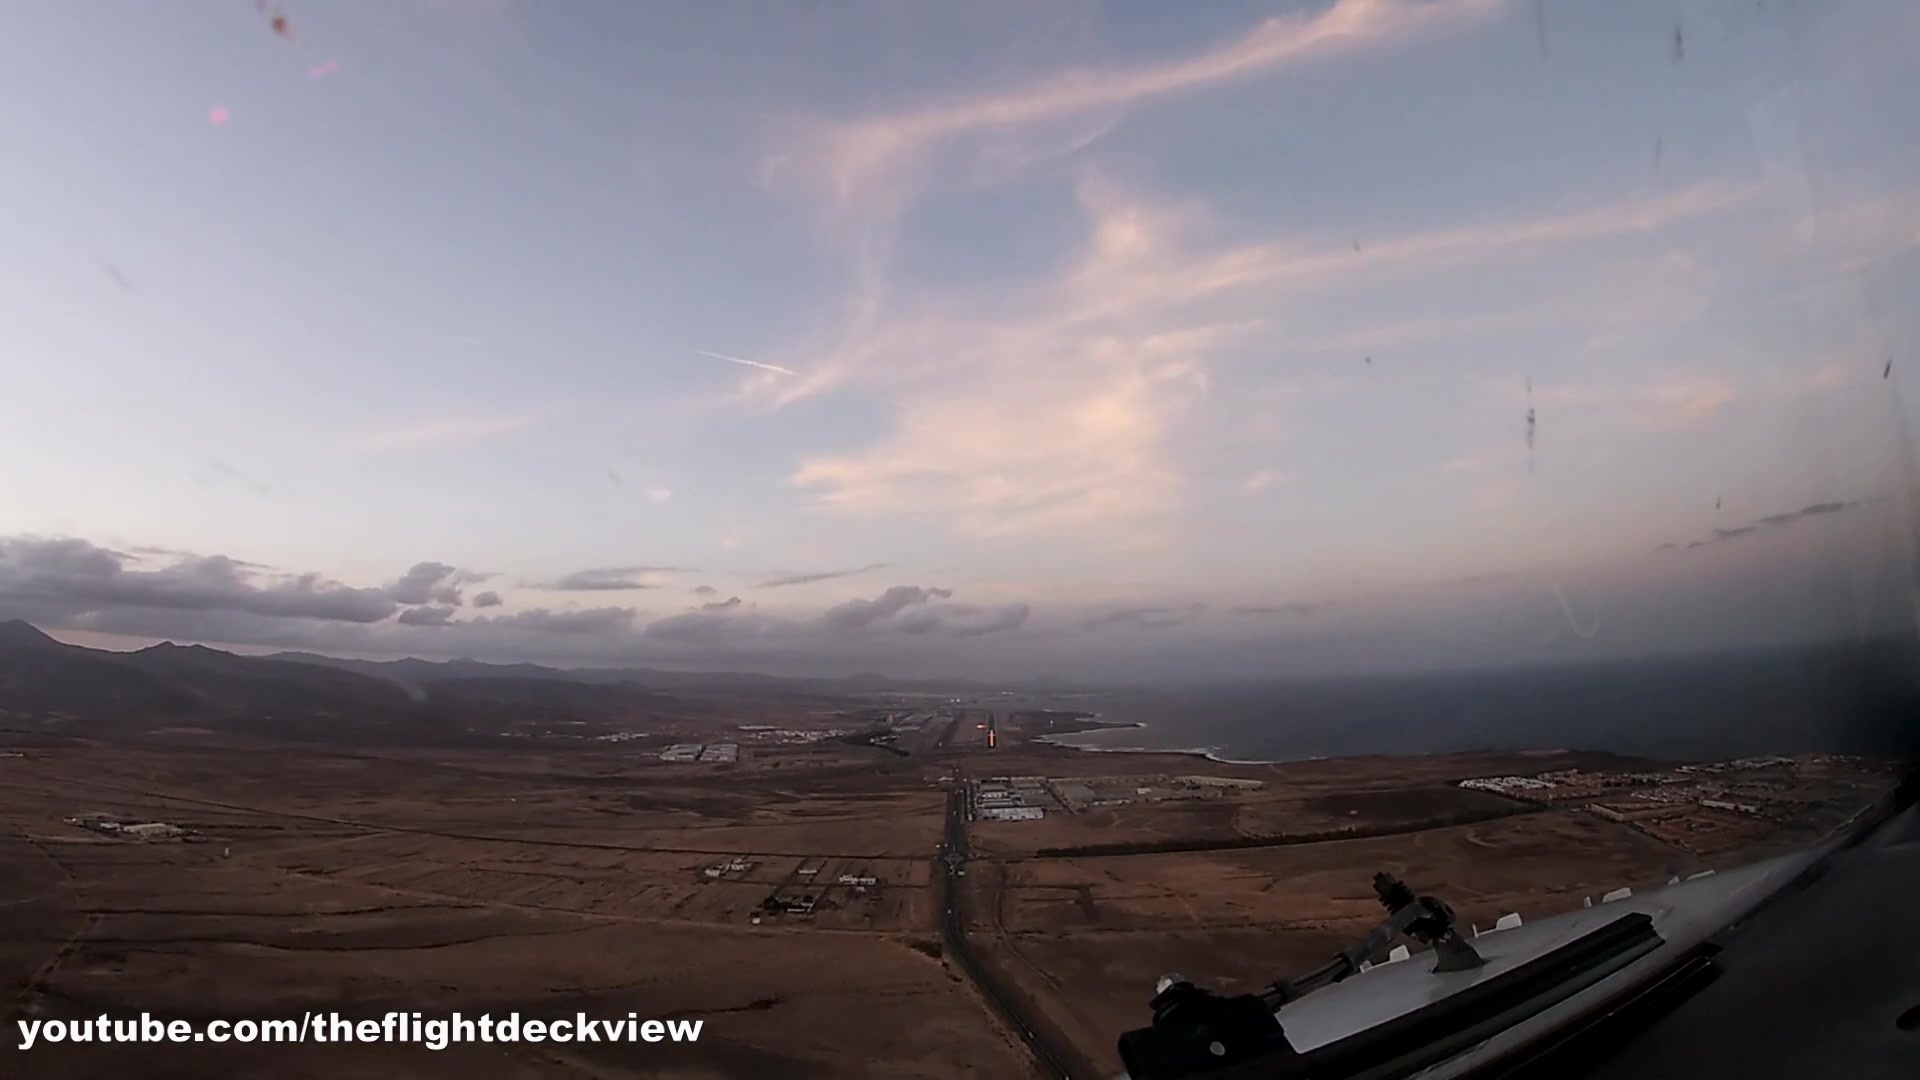runway: (982, 708, 1004, 752)
